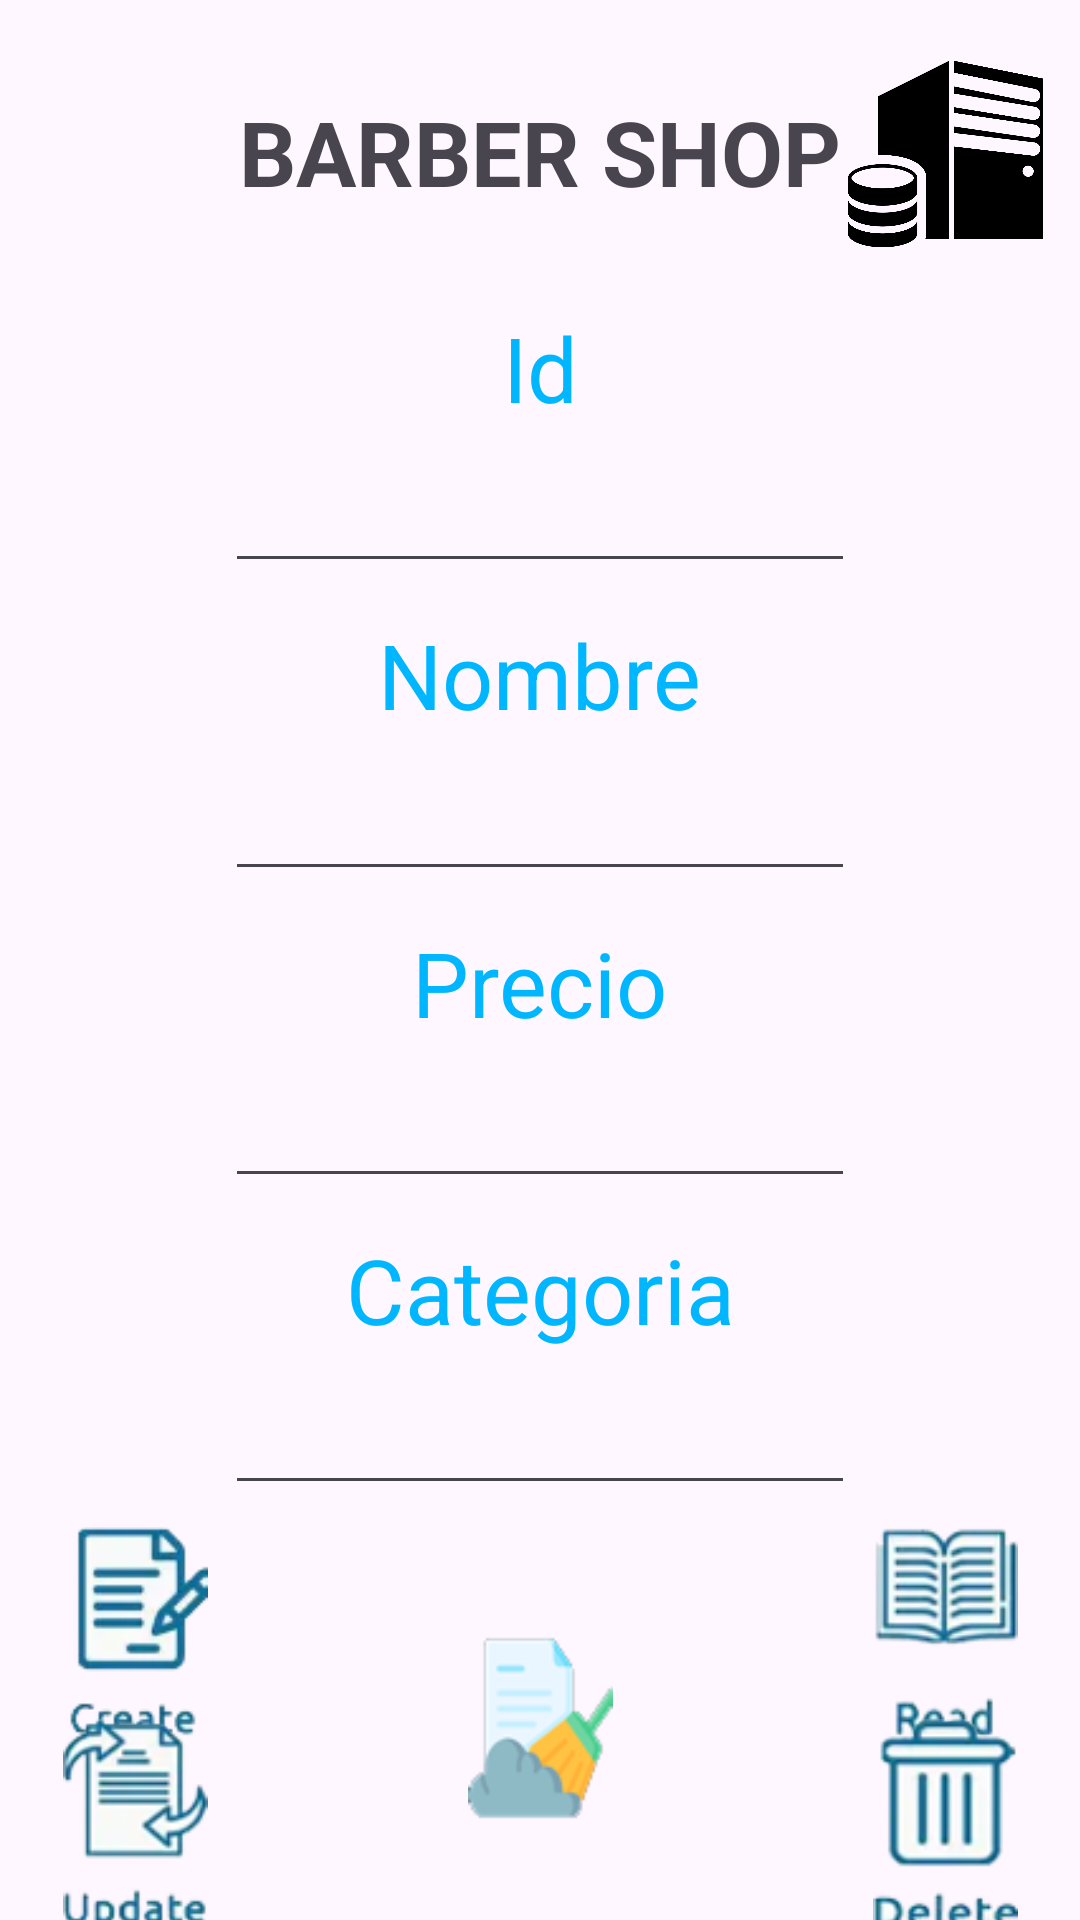

Screen size 1080*1920. Icon name, then its center in pixels as [x,y]:
iconolimpieza: [540,1728]
server: [945,154]
